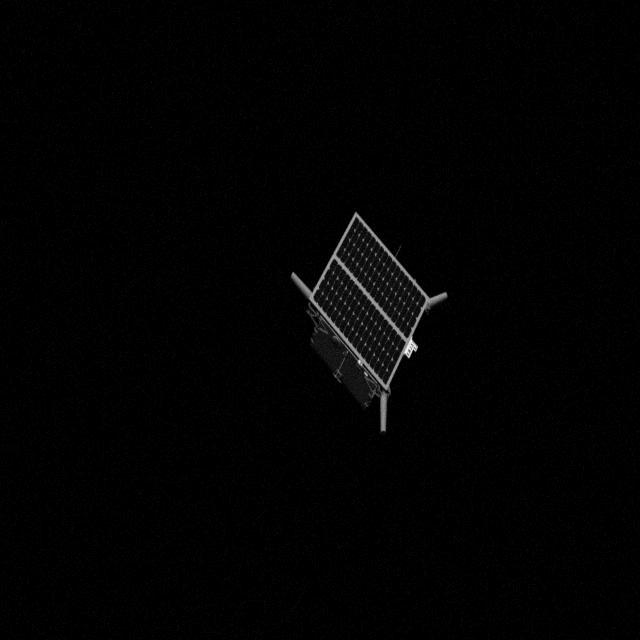satellite: (288, 212, 450, 442)
